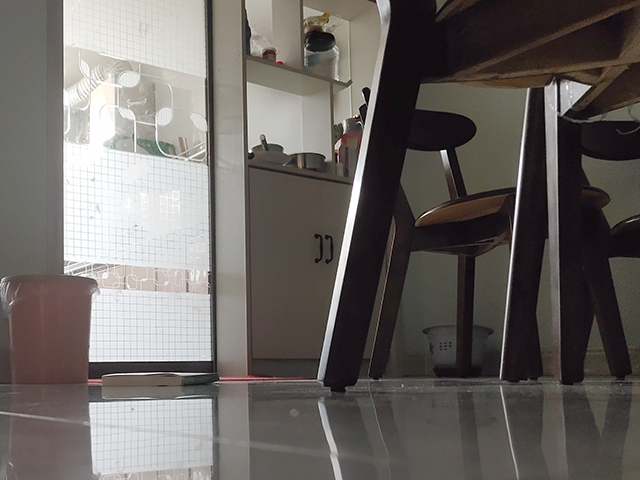book: (100, 370, 222, 388)
cabinet: (233, 168, 382, 379)
carpet: (219, 375, 316, 382)
stool: (315, 1, 640, 393), (358, 104, 599, 388)
trashcan: (1, 271, 100, 386)
